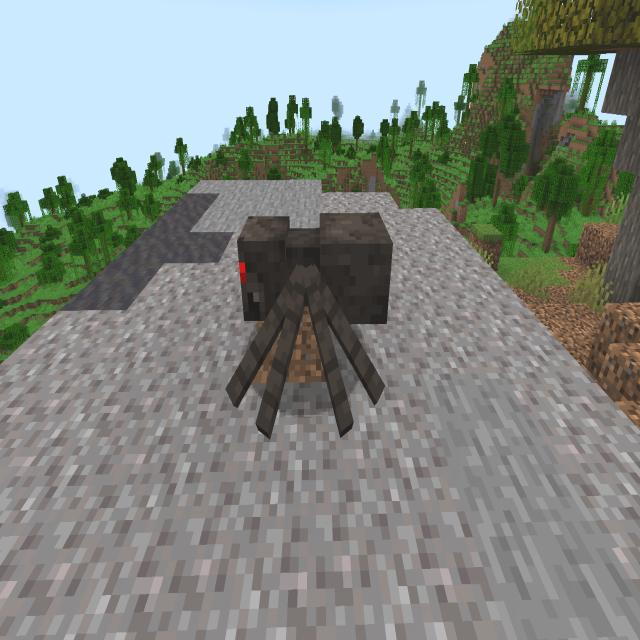Spider: (218, 197, 406, 461)
